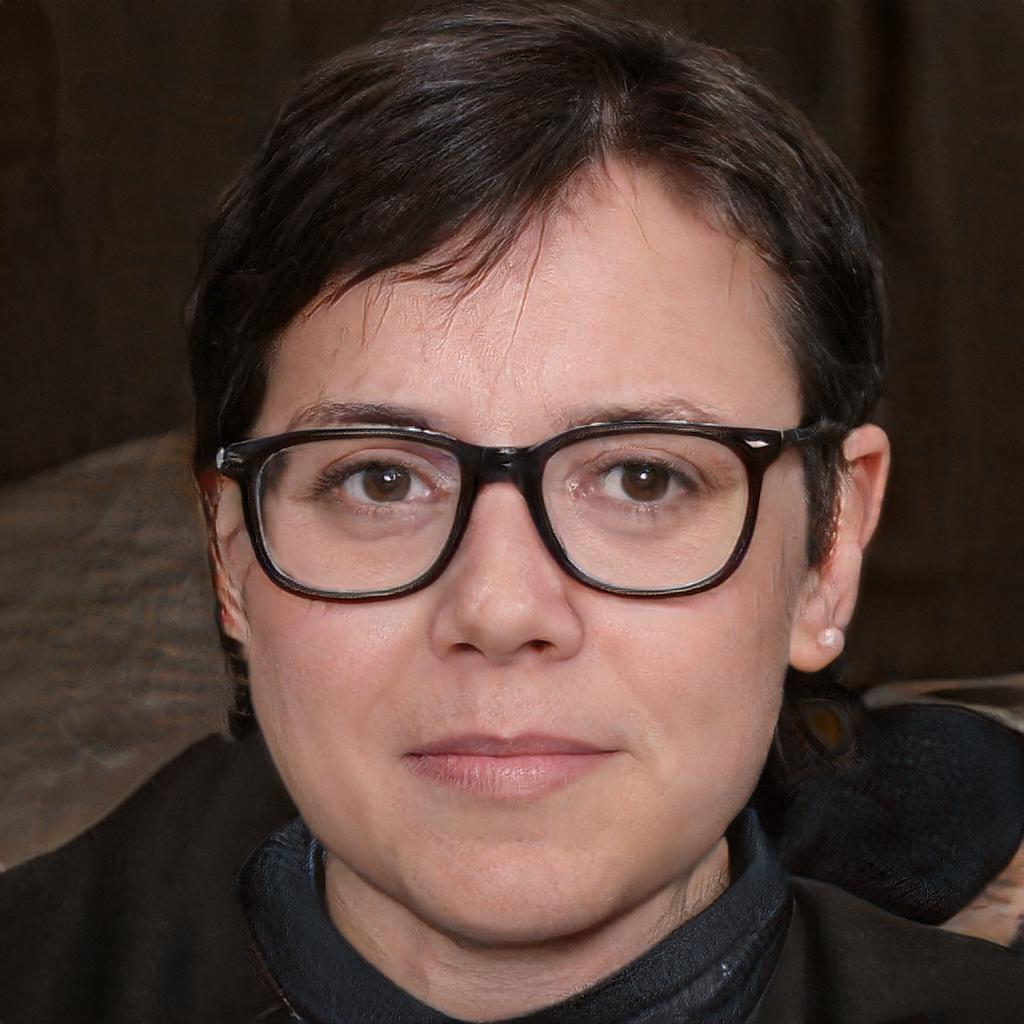face: (246, 164, 808, 941)
